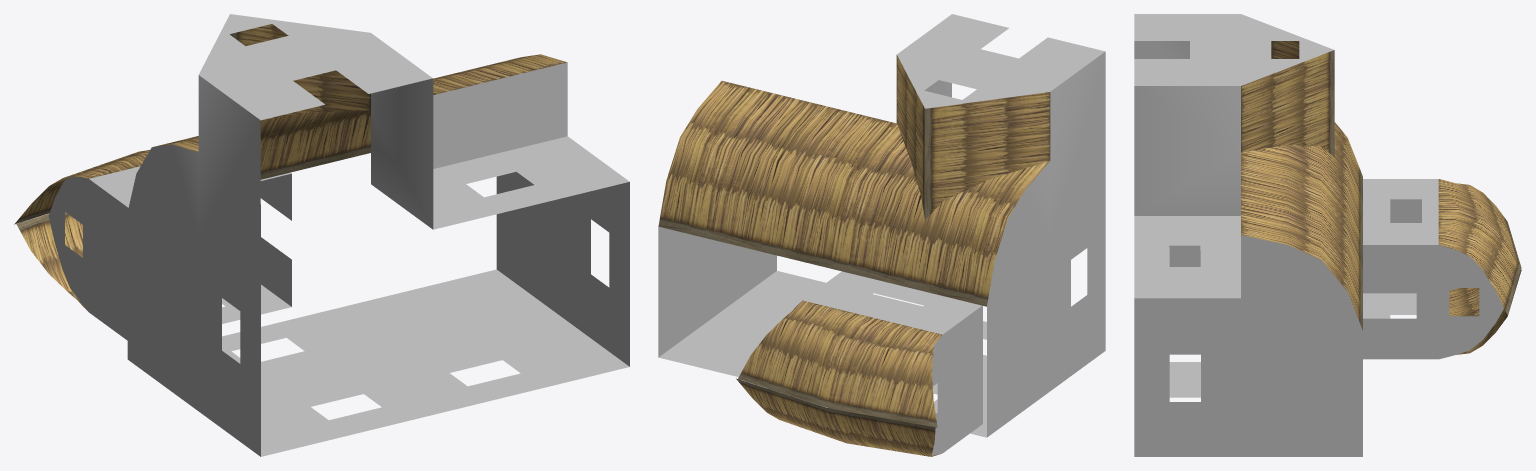
Rendered from Pirate_House_Exterior_Type01_F.fbx.
The picture shows the model from 3 angles, left to right: view 1: azimuth 30°, elevation 25°; view 2: azimuth 150°, elevation 25°; view 3: azimuth 270°, elevation 25°; orthographic projection. The views are drawn at different scales.
Parts seen in each view (by area): view 1: Pirate_House_Exterior_Type01_F; view 2: Pirate_House_Exterior_Type01_F; view 3: Pirate_House_Exterior_Type01_F.
Boxes of the visible parts, x1,y1,x2,y2 form: Pirate_House_Exterior_Type01_F: [14, 14, 629, 456]; Pirate_House_Exterior_Type01_F: [658, 14, 1105, 456]; Pirate_House_Exterior_Type01_F: [1134, 14, 1521, 456].
Bounding box in the file's own units: 14.95 × 12.08 × 14.69.
